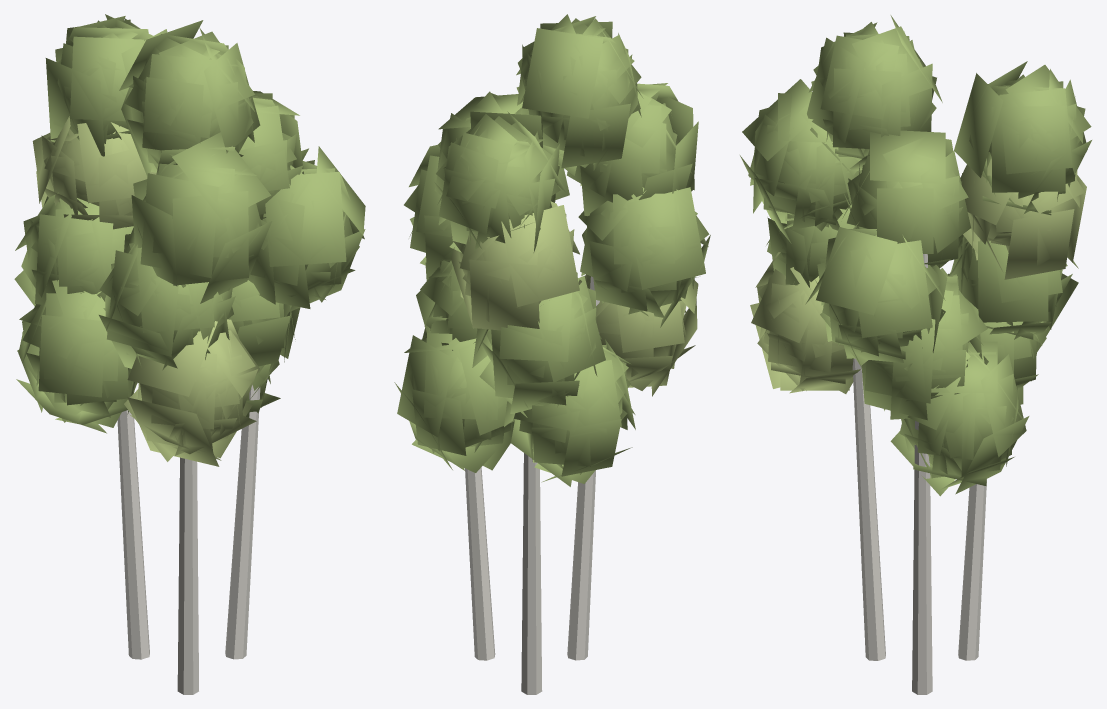
File: BirchCluster.glb
The picture shows the model from 3 angles, left to right: view 1: azimuth 30°, elevation 25°; view 2: azimuth 150°, elevation 25°; view 3: azimuth 270°, elevation 25°; orthographic projection. The views are drawn at different scales.
Visible parts, largest first — view 1: Birch crown.009, Birch crown.008, Birch crown.011, Birch crown.001, Birch crown.007, Birch crown.010, Birch crown.004, Birch crown.005, Birch crown.006, Limb.016, Limb.015, Limb.017 (+3 smaller); view 2: Birch crown.008, Birch crown.010, Birch crown.004, Birch crown.003, Birch crown.005, Birch crown.006, Birch crown.007, Birch crown.009, Birch crown.011, Limb.016, Limb.015, Limb.017 (+3 smaller); view 3: Birch crown.004, Birch crown.001, Birch crown.008, Birch crown, Birch crown.003, Birch crown.009, Birch crown.005, Birch crown.011, Birch crown.002, Birch crown.006, Limb.017, Limb.015 (+3 smaller).
Boxes of the visible parts, x1,y1,x2,y2 form: Birch crown.009: [131, 132, 272, 303]; Birch crown.008: [119, 20, 260, 176]; Birch crown.011: [124, 319, 259, 466]; Birch crown.001: [248, 146, 365, 311]; Birch crown.007: [16, 280, 136, 433]; Birch crown.010: [99, 228, 235, 370]; Birch crown.004: [45, 14, 167, 156]; Birch crown.005: [32, 116, 156, 229]; Birch crown.006: [14, 192, 133, 306]; Limb.016: [117, 410, 149, 659]; Limb.015: [225, 385, 260, 659]; Limb.017: [177, 457, 198, 694]; Birch crown.008: [516, 14, 643, 175]; Birch crown.010: [578, 187, 710, 327]; Birch crown.004: [434, 111, 567, 252]; Birch crown.003: [394, 316, 514, 472]; Birch crown.005: [450, 201, 581, 330]; Birch crown.006: [472, 272, 605, 417]; Birch crown.007: [504, 339, 635, 486]; Birch crown.009: [567, 83, 698, 216]; Birch crown.011: [584, 274, 698, 396]; Limb.016: [521, 453, 542, 694]; Limb.015: [465, 467, 495, 660]; Limb.017: [567, 276, 599, 660]; Birch crown.004: [954, 61, 1091, 215]; Birch crown.001: [805, 222, 947, 370]; Birch crown.008: [807, 15, 942, 175]; Birch crown: [842, 130, 970, 268]; Birch crown.003: [890, 341, 1029, 496]; Birch crown.009: [740, 79, 861, 243]; Birch crown.005: [960, 159, 1086, 279]; Birch crown.011: [750, 252, 860, 393]; Birch crown.002: [861, 268, 988, 420]; Birch crown.006: [949, 234, 1078, 343]; Limb.017: [852, 358, 885, 660]; Limb.015: [912, 254, 932, 694].
Bounding box in the file's own units: 3.6 × 7.85 × 4.01.
